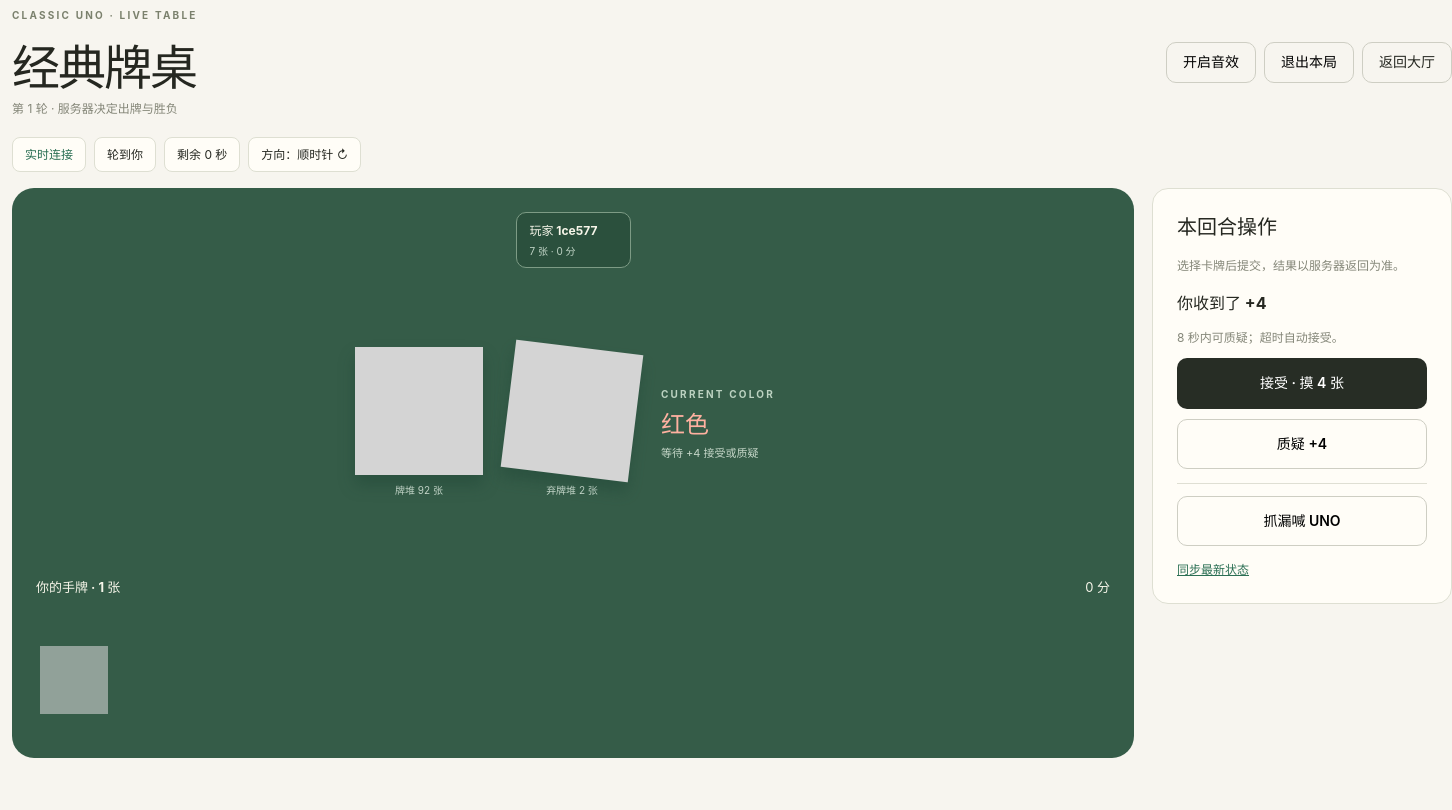
Test: live Web table › exposes the +4 challenge and UNO catch windows without hidden hands
The width and height of the screenshot is (1452, 810).
Click the button "质疑 +4": (1302, 444) [1177,418,1427,469]
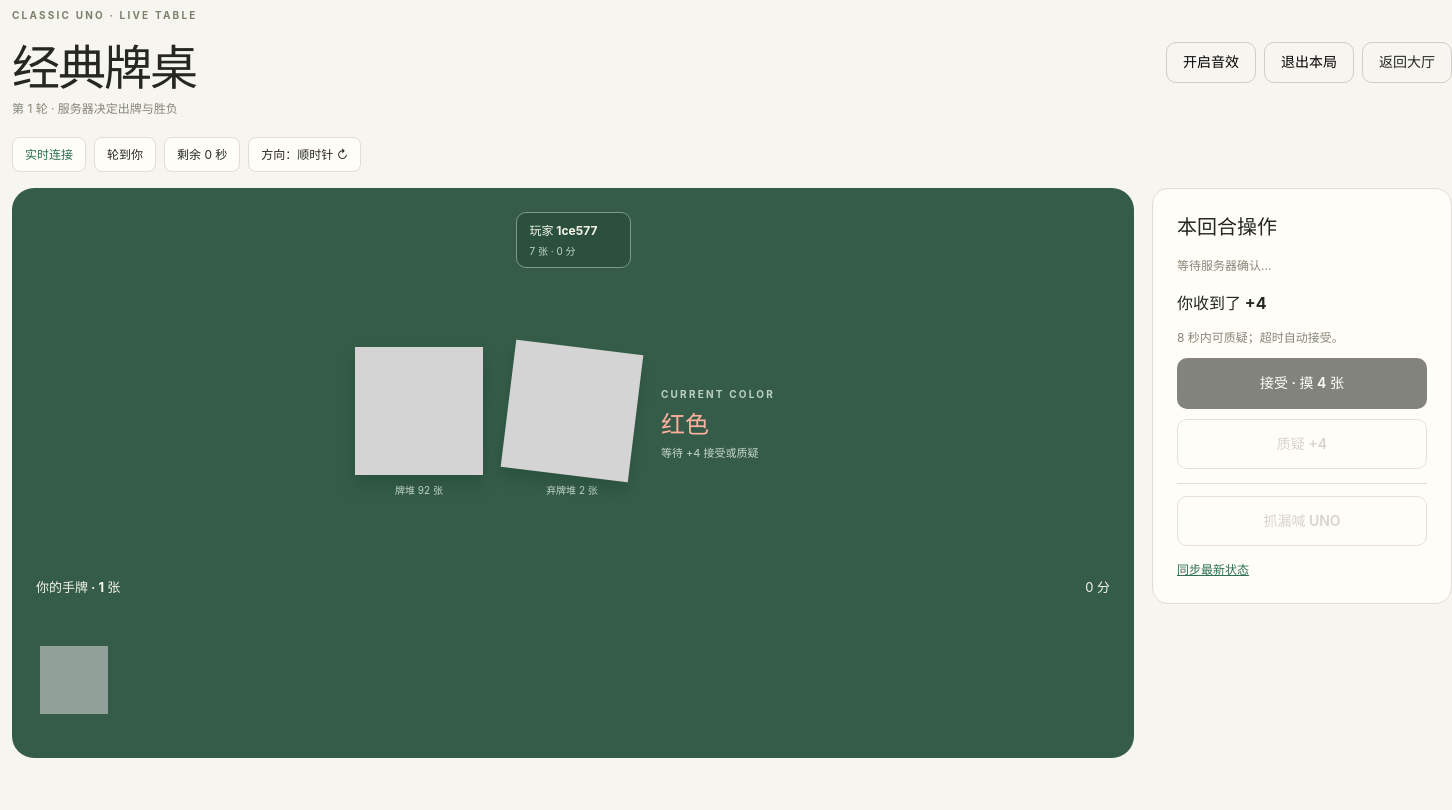
Result: the button "抓漏喊 UNO" is disabled at [1177,496,1427,546]
